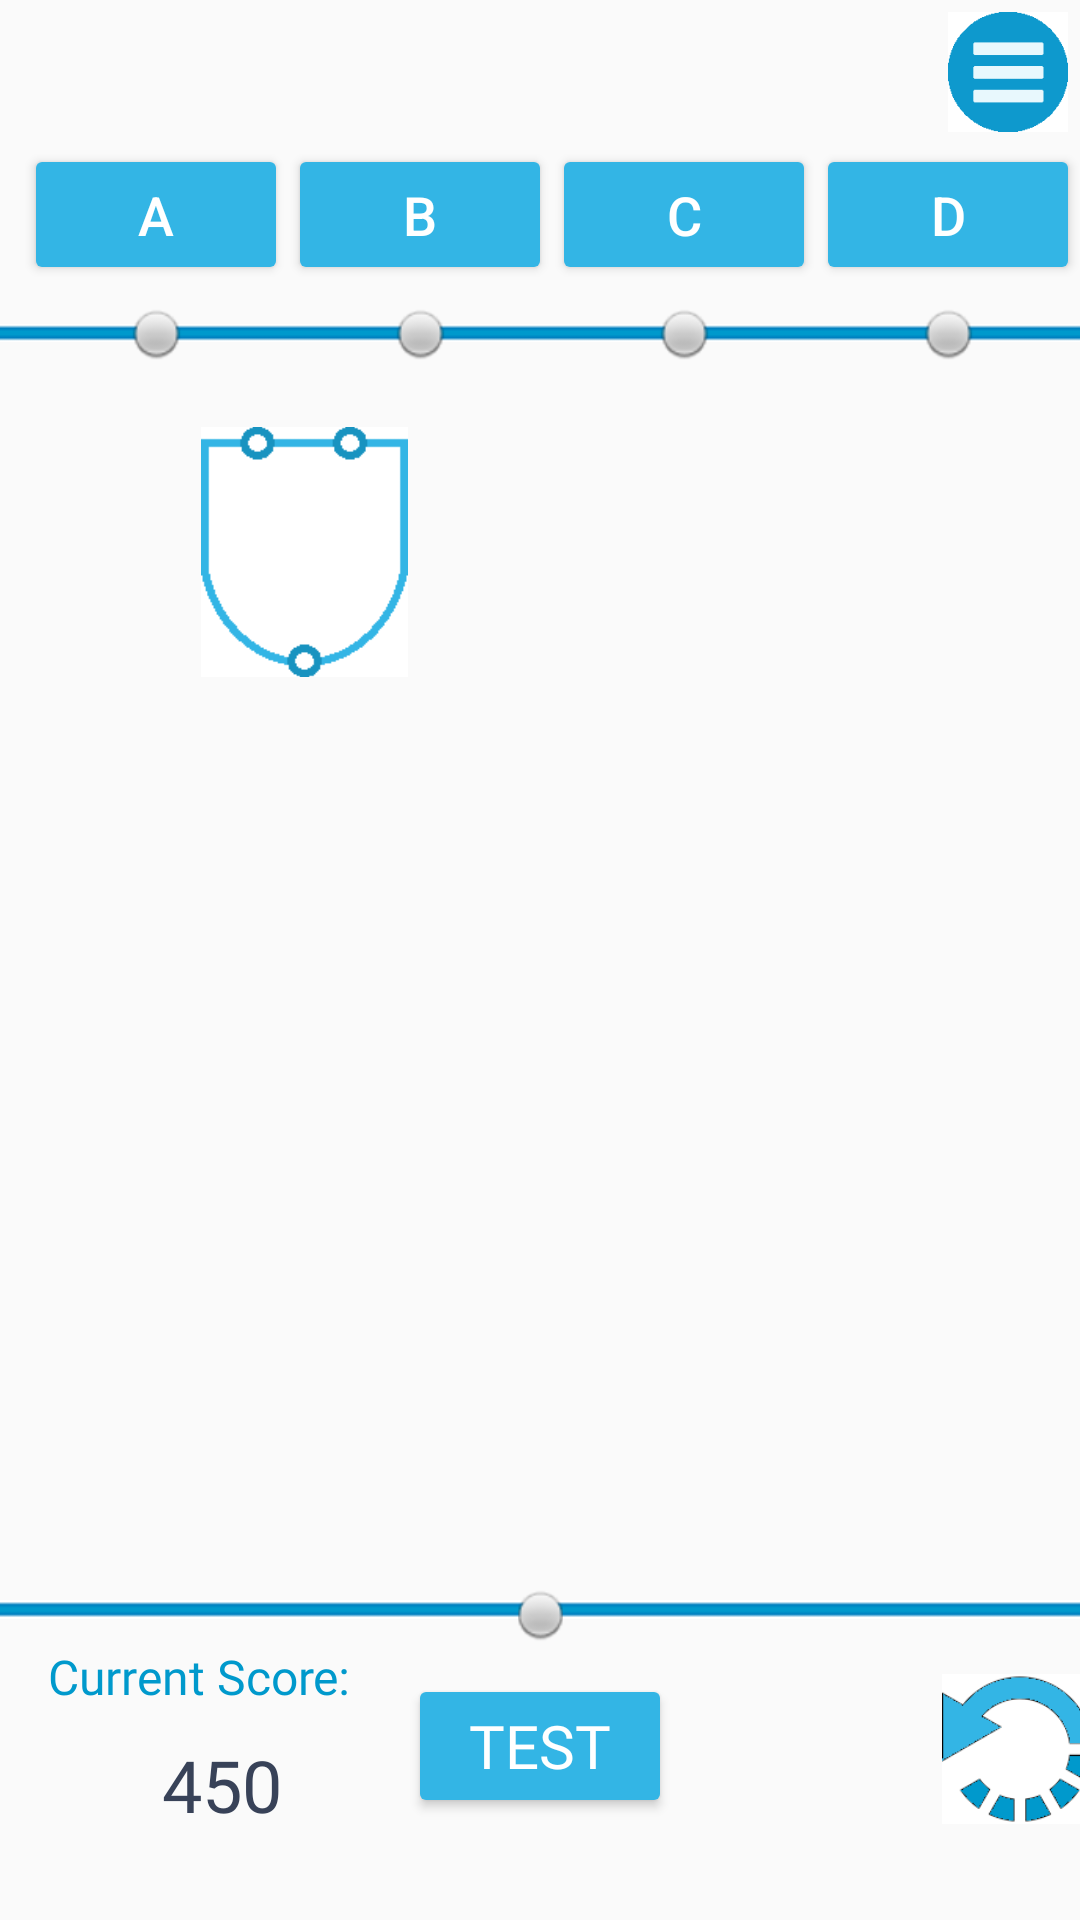

Screen size 1080px x 1920px. Icon name, then its center in pixels as point (x, y):
and gate: point (304, 552)
expandmenu: point (1008, 72)
undo: point (1011, 1749)
